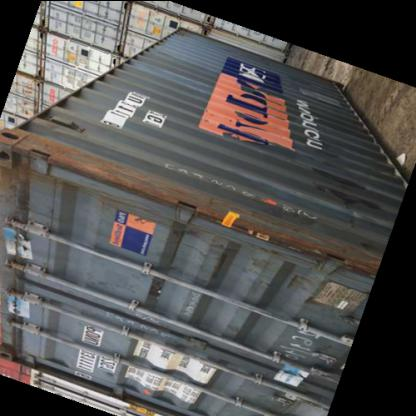Damage: (183, 204, 279, 244), (280, 272, 354, 315), (302, 158, 356, 209), (1, 158, 63, 202), (189, 99, 233, 133), (297, 78, 345, 106)
